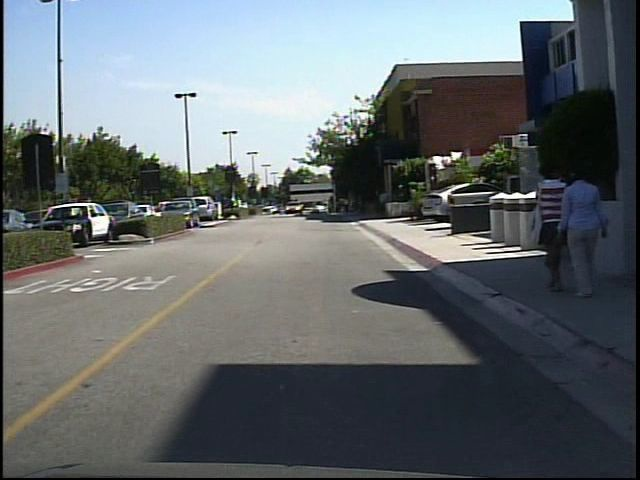person: (554, 162, 610, 296), (529, 159, 565, 295), (232, 192, 248, 219), (321, 196, 335, 221)
